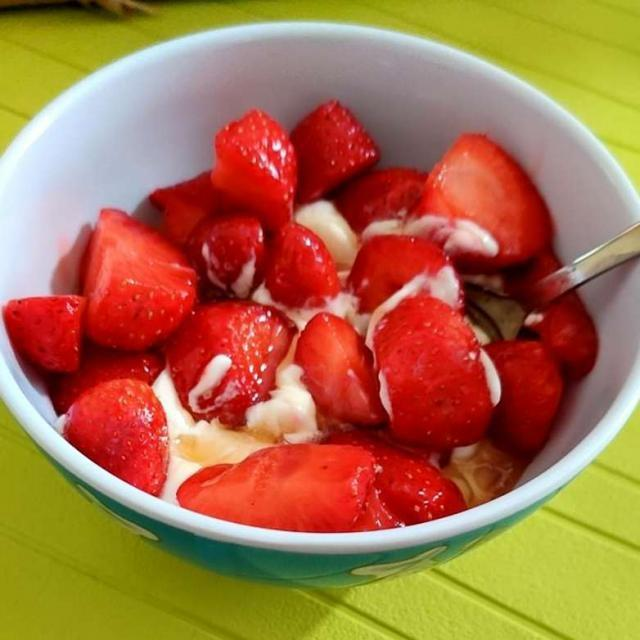strawberries: (18, 104, 586, 528)
